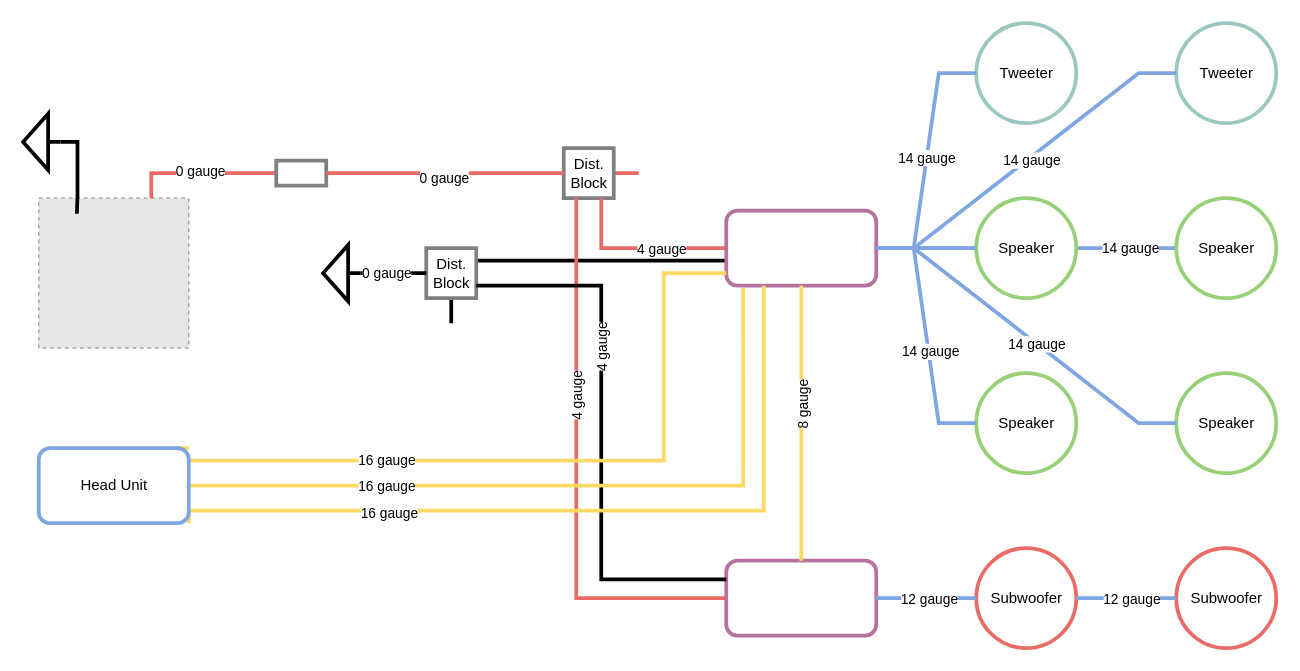
This 1300x671 diagram has some shape labels left out. Grey dashed boxes stand in for pictures. The centre of each missing label's shape, as x and y in pixels:
Amplifier: (801,247)
Fuse: (301,172)
Mono Amplifier: (801,597)
